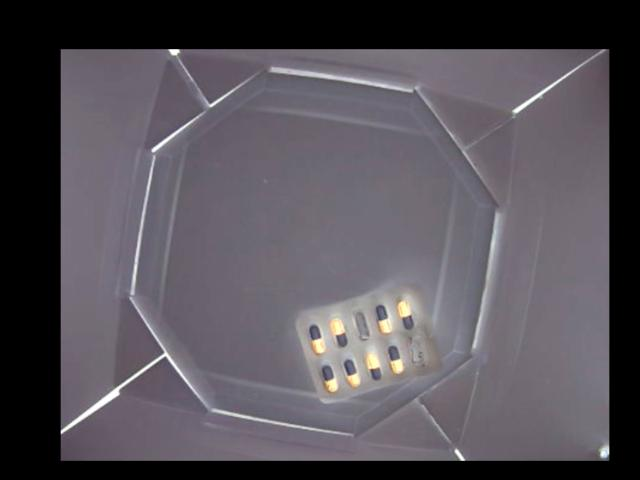Medicine: (296, 276, 443, 401)
